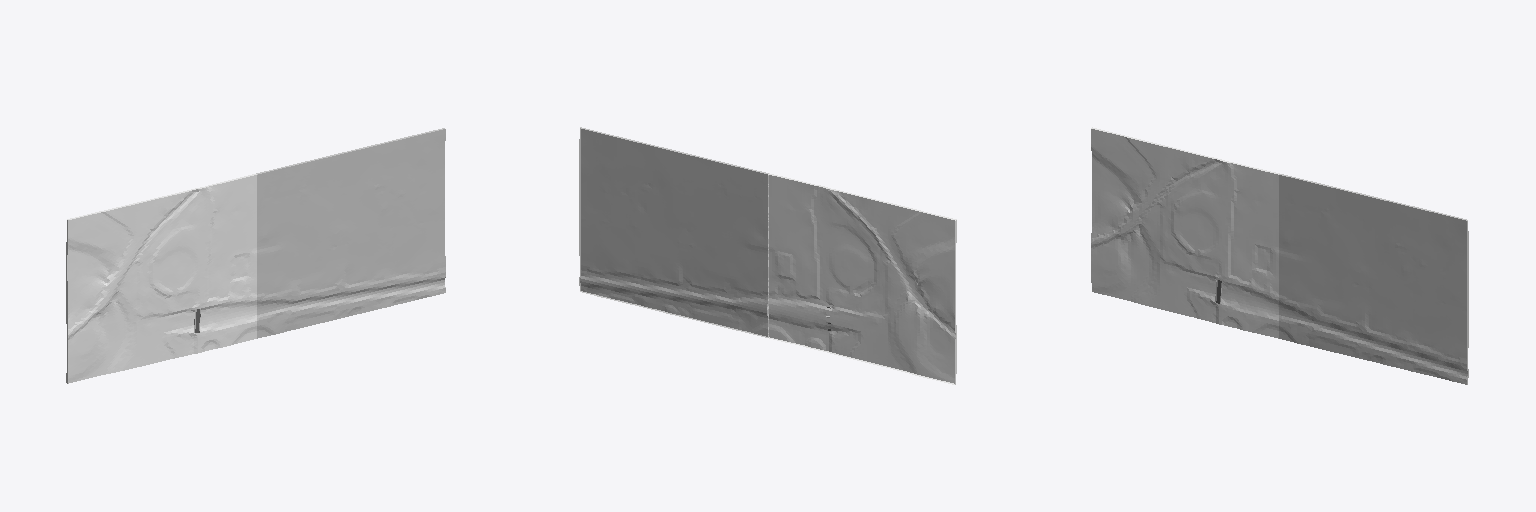
Rendered from novo4.obj.
3 renders of one model, left to right at view 1: azimuth 30°, elevation 25°; view 2: azimuth 150°, elevation 25°; view 3: azimuth 330°, elevation 25°, orthographic.
Parts seen in each view (by area): view 1: novo3_L0_X0_Y0_subtile.osg_TerrainTile_MatrixTransform__Geometr, novo3_L0_X0_Y0_subtile.osg_TerrainTile_MatrixTransform__Geo.000; view 2: novo3_L0_X0_Y0_subtile.osg_TerrainTile_MatrixTransform__Geo.000, novo3_L0_X0_Y0_subtile.osg_TerrainTile_MatrixTransform__Geometr; view 3: novo3_L0_X0_Y0_subtile.osg_TerrainTile_MatrixTransform__Geo.000, novo3_L0_X0_Y0_subtile.osg_TerrainTile_MatrixTransform__Geometr.
Part boxes in pixels (bbox=[...]): novo3_L0_X0_Y0_subtile.osg_TerrainTile_MatrixTransform__Geometr: bbox=[66, 174, 256, 383]; novo3_L0_X0_Y0_subtile.osg_TerrainTile_MatrixTransform__Geo.000: bbox=[256, 128, 445, 338]; novo3_L0_X0_Y0_subtile.osg_TerrainTile_MatrixTransform__Geo.000: bbox=[579, 127, 768, 337]; novo3_L0_X0_Y0_subtile.osg_TerrainTile_MatrixTransform__Geometr: bbox=[767, 173, 956, 384]; novo3_L0_X0_Y0_subtile.osg_TerrainTile_MatrixTransform__Geo.000: bbox=[1279, 174, 1468, 384]; novo3_L0_X0_Y0_subtile.osg_TerrainTile_MatrixTransform__Geometr: bbox=[1091, 127, 1279, 338].
Size of the model in its own units: 1341 by 558 by 20.38.